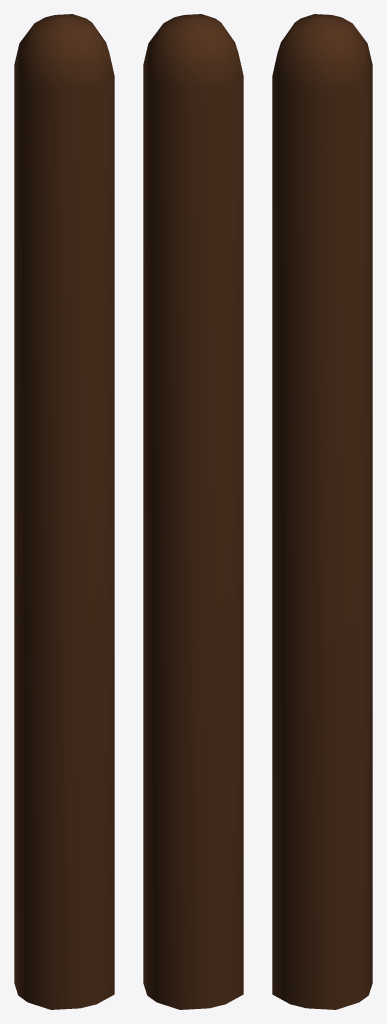
File: Playground_Support_Pole_FBX.fbx
The picture shows the model from 3 angles, left to right: view 1: azimuth 30°, elevation 25°; view 2: azimuth 210°, elevation 25°; view 3: azimuth 330°, elevation 25°; orthographic projection.
Visible parts, largest first — view 1: support pole; view 2: support pole; view 3: support pole.
Part boxes in pixels (<box>): support pole: <box>14,14,114,1009</box>; support pole: <box>143,14,243,1009</box>; support pole: <box>272,14,372,1009</box>.
Bounding box in the file's own units: 199 × 2218 × 199.
